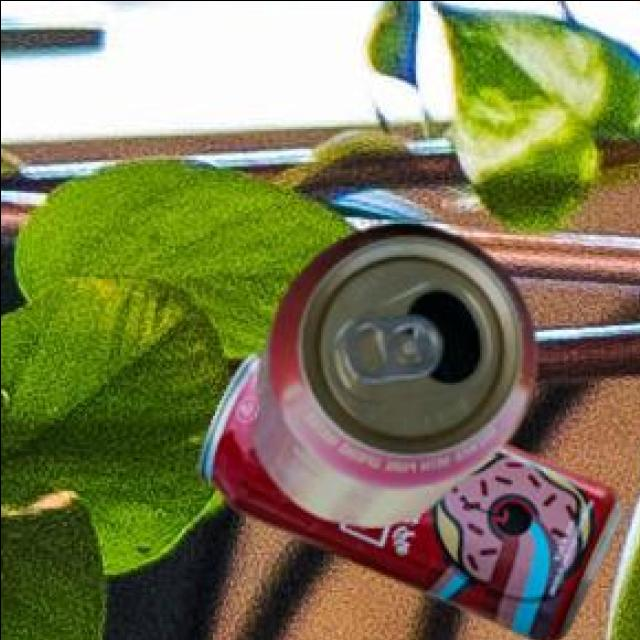logam: (202, 350, 626, 639), (255, 220, 540, 524)
